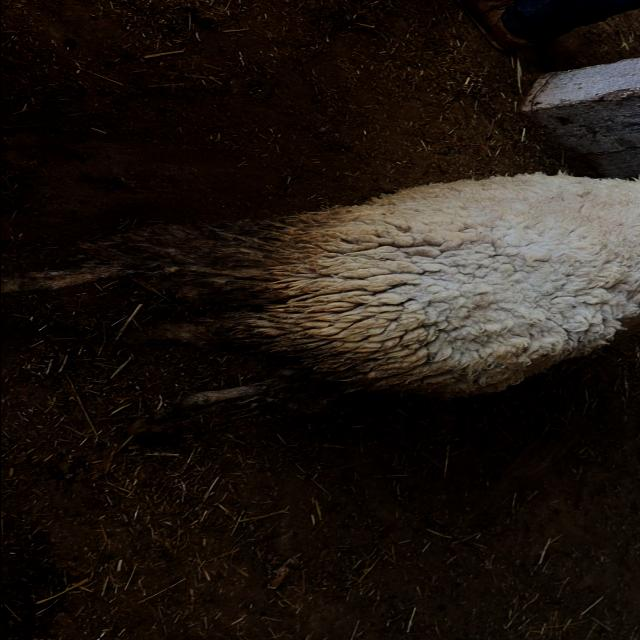Score_4: (1, 173, 640, 442)
